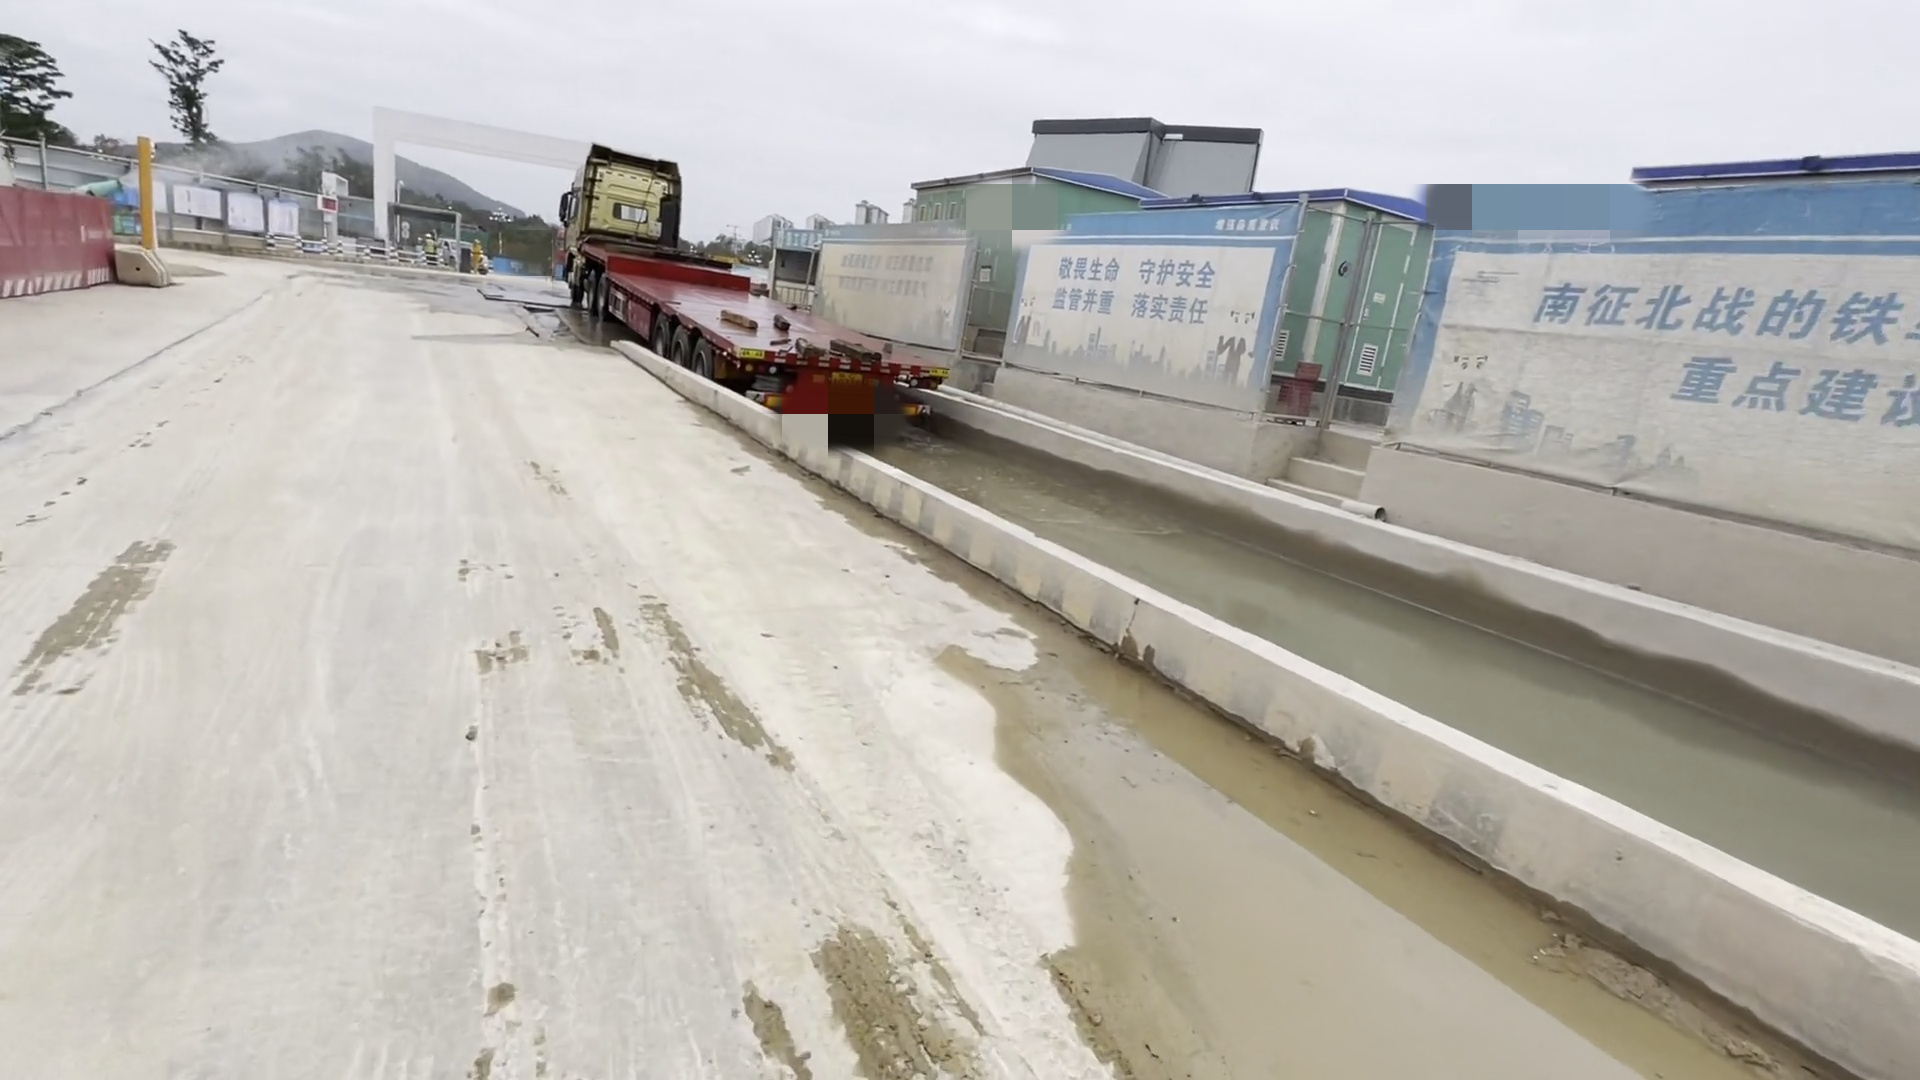slogan: (1481, 218, 1920, 508), (1029, 196, 1276, 375)
